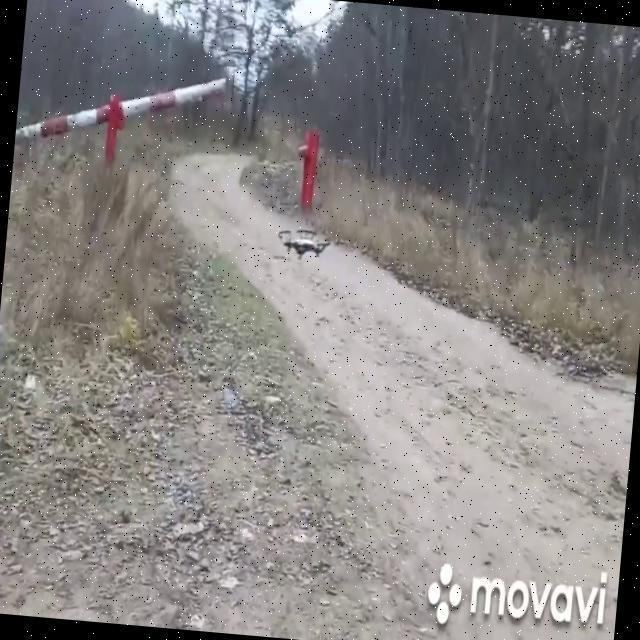Drons: (274, 225, 332, 263)
